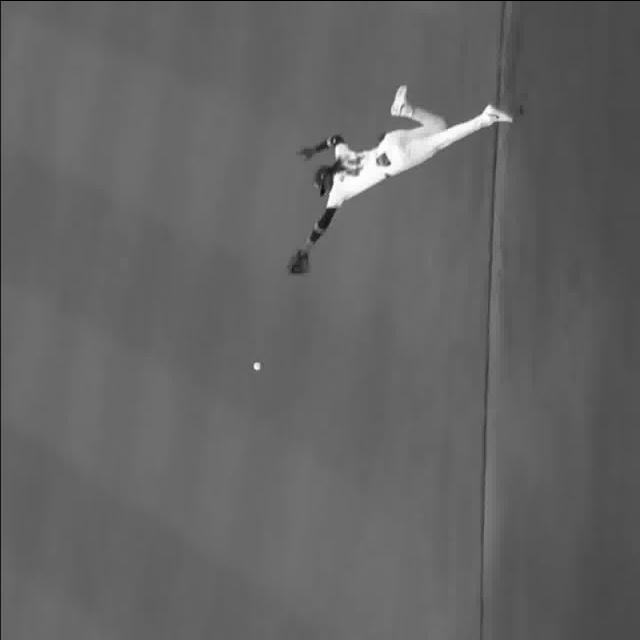baseball: (251, 362, 263, 369)
baseball_glove: (285, 247, 313, 276)
shoe: (391, 75, 412, 117), (485, 105, 515, 124)
